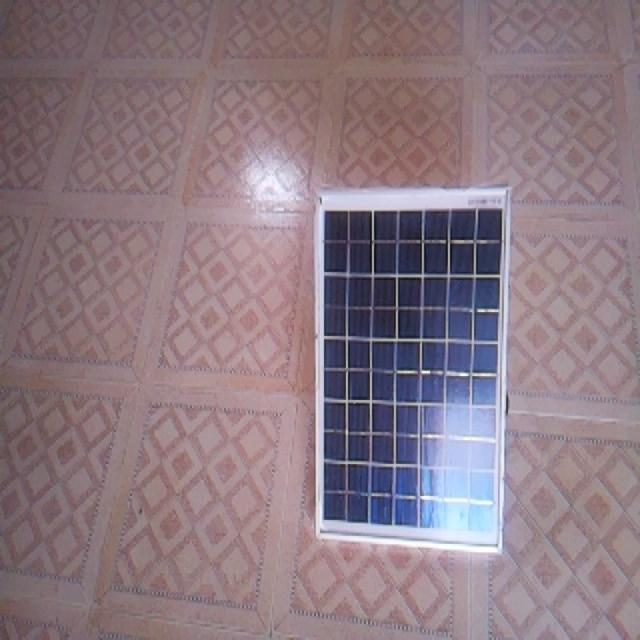Normal Solar Panel: (316, 189, 511, 553)
